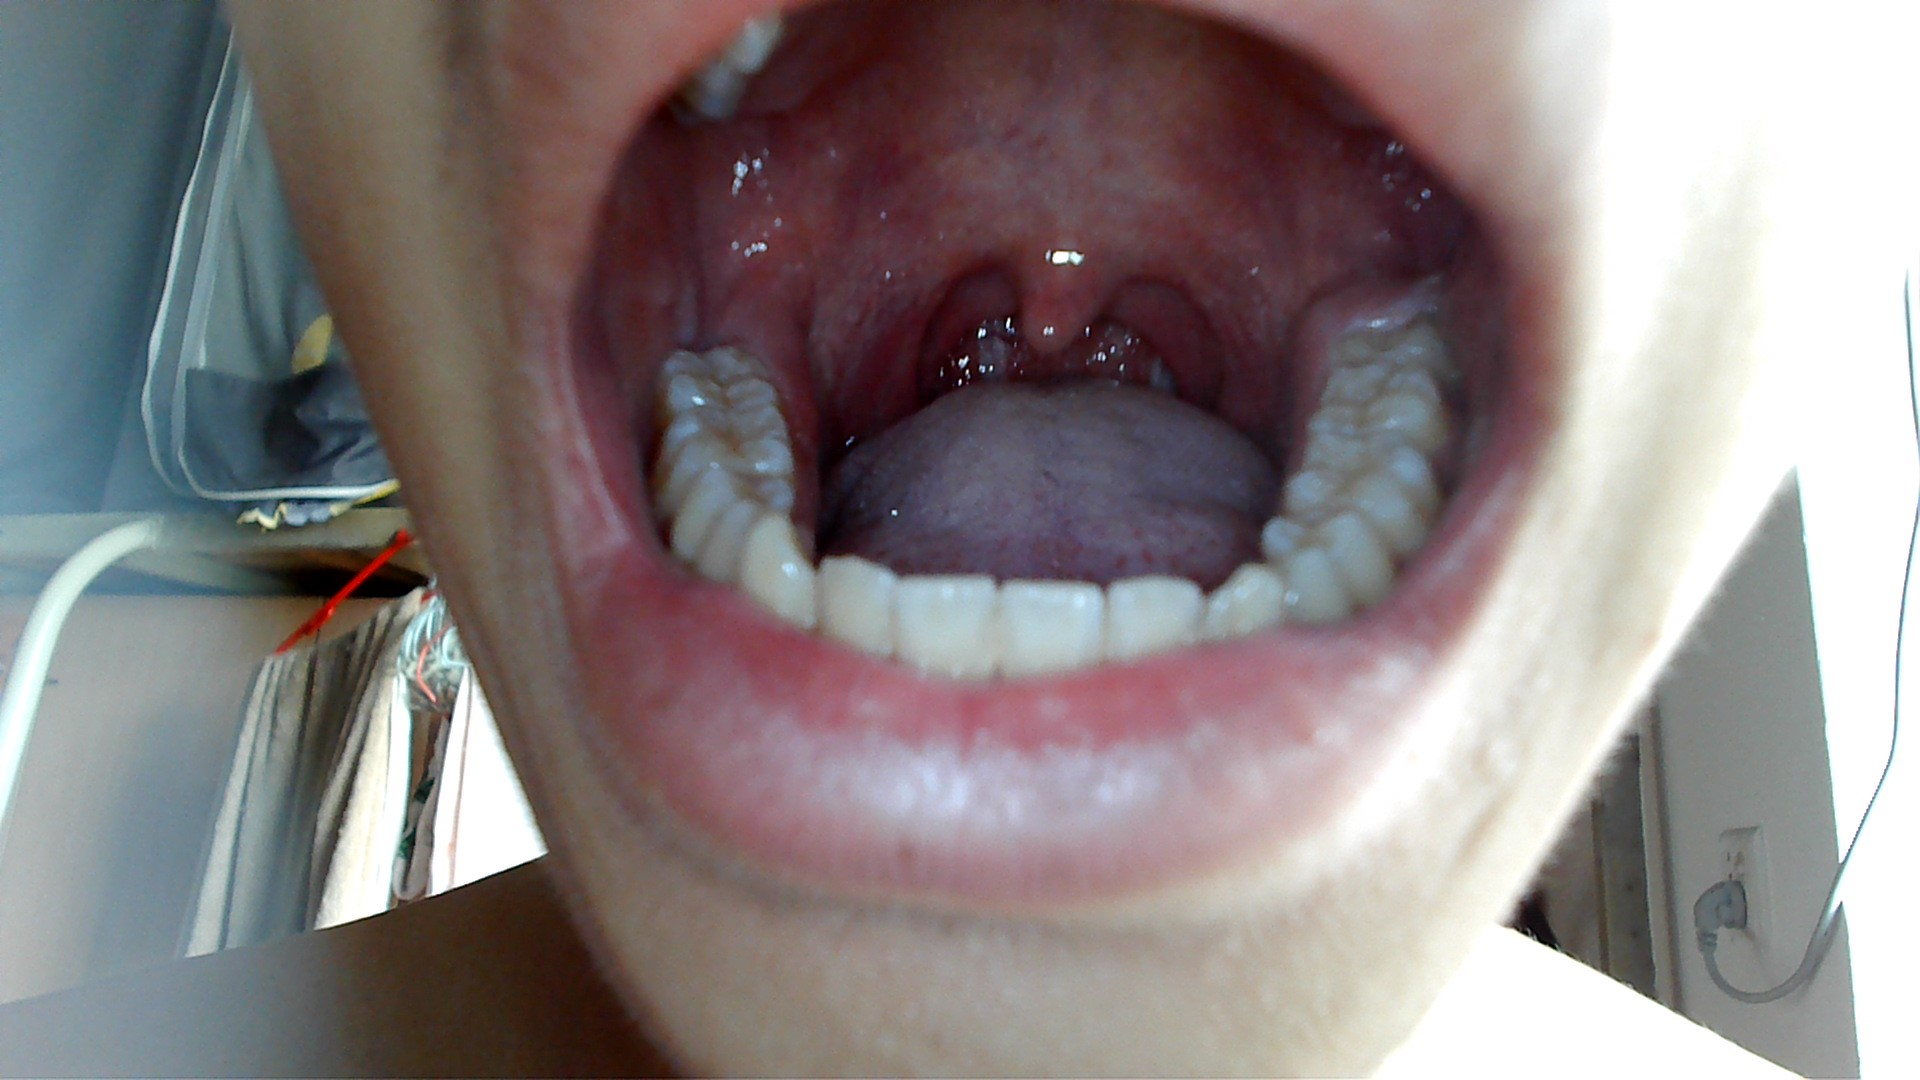throat: (862, 204, 953, 411), (1178, 240, 1266, 407)
